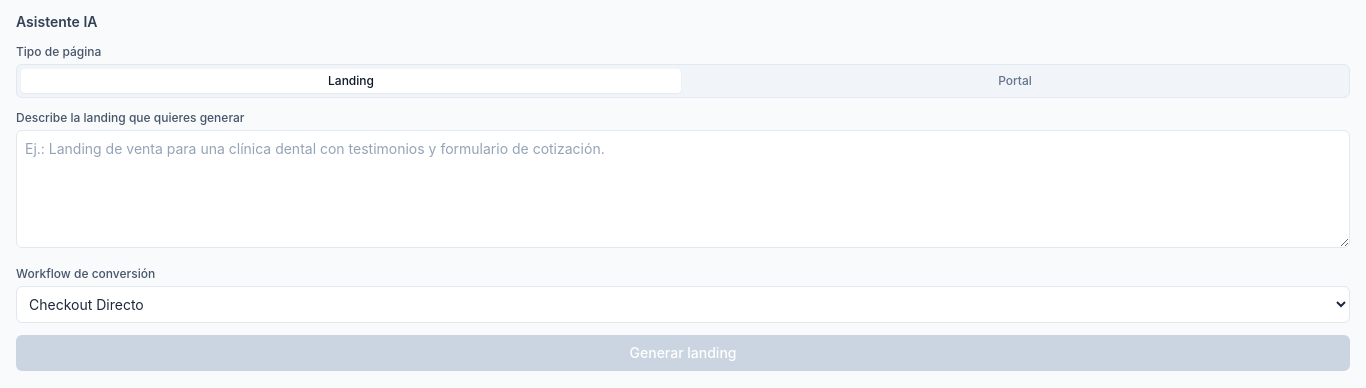
Scenario: AIPanel › cambia a modo portal ocultando el workflow y ajustando los textos
This screenshot has width=1366, height=388.
Check: the dropdown labelled "Workflow de conversión" is shown, box [16, 286, 1350, 323]
Check: the button "Generar landing" is shown, box [16, 335, 1350, 371]
Click the button "Portal".
click(1015, 81)  # box [685, 69, 1345, 93]
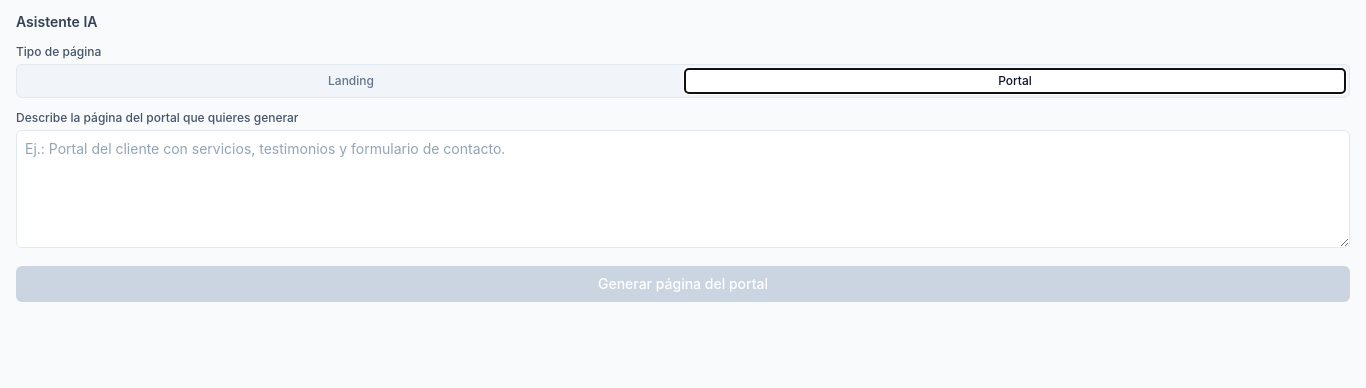
Check: the text box labelled "Describe la página del portal que quieres generar" is shown, box [16, 130, 1350, 248]
Check: the label labelled "Workflow de conversión" is gone
Check: the button "Generar página del portal" is shown, box [16, 266, 1350, 302]
